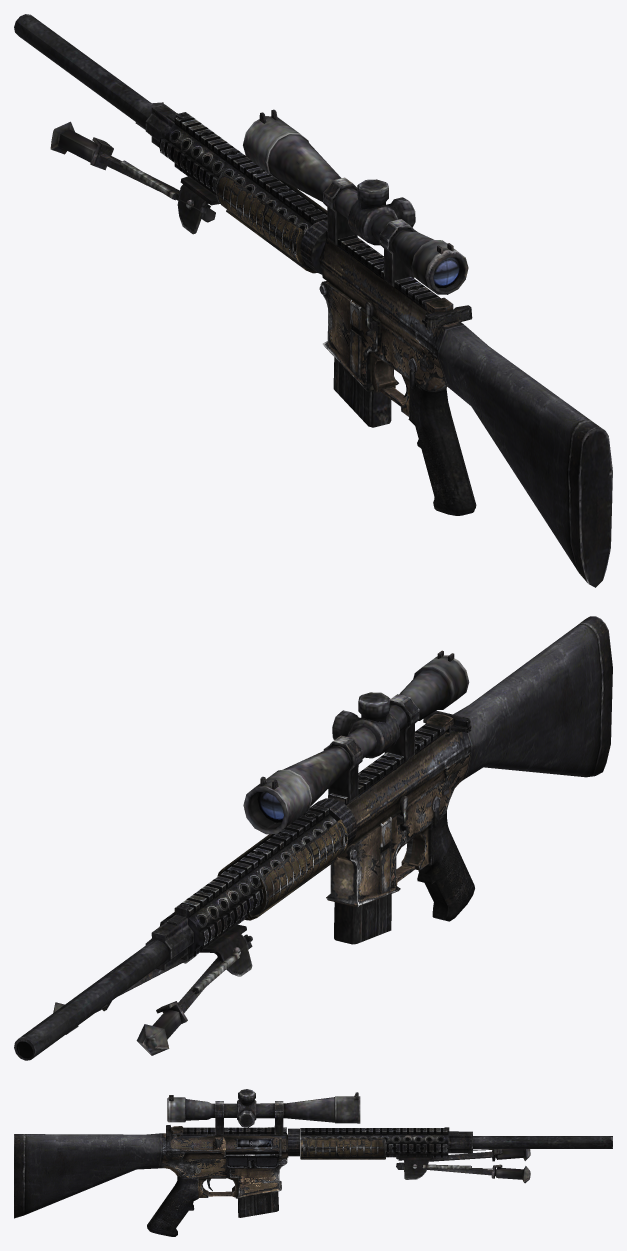
File: qiang5.FBX
The picture shows the model from 3 angles, top to bottom: view 1: azimuth 30°, elevation 25°; view 2: azimuth 150°, elevation 25°; view 3: azimuth 270°, elevation 25°; orthographic projection. The views are drawn at different scales.
Parts seen in each view (by area): view 1: MK-12; view 2: MK-12; view 3: MK-12.
Part boxes in pixels (left/top/right/bottom): MK-12: left=14, top=14, right=612, bottom=587; MK-12: left=14, top=616, right=612, bottom=1060; MK-12: left=14, top=1089, right=612, bottom=1236.
Bounding box in the file's own units: 13.93 × 30.76 × 117.
